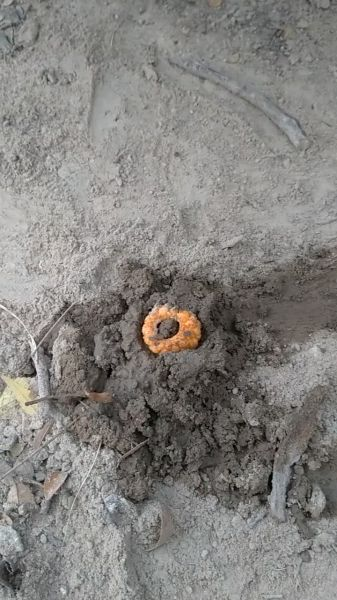eggs: (136, 300, 210, 358)
